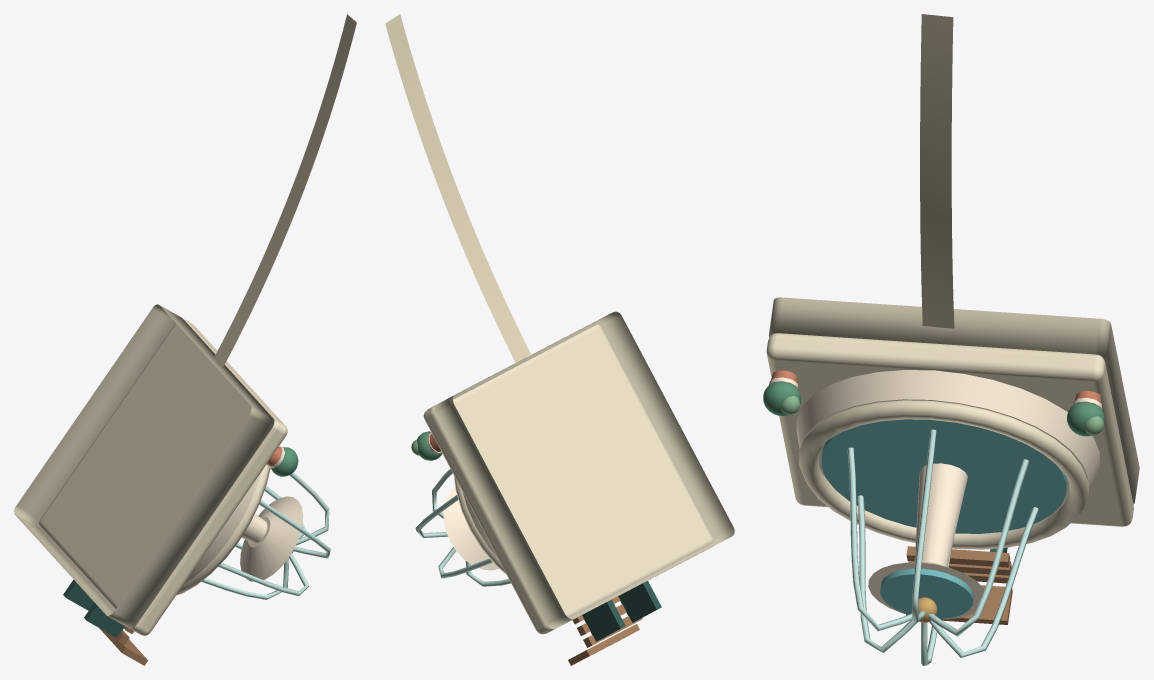
Rendered from fountain.glb.
The picture shows the model from 3 angles, left to right: view 1: azimuth 30°, elevation 25°; view 2: azimuth 150°, elevation 25°; view 3: azimuth 270°, elevation 25°; orthographic projection. The views are drawn at different scales.
Parts seen in each view (by area): view 1: fountain (×7); view 2: fountain (×7); view 3: fountain (×9).
Boxes of the visible parts, left/top/right/bottom form: fountain (×7): left=14, top=14, right=356, bottom=665; fountain (×7): left=385, top=14, right=734, bottom=665; fountain (×9): left=763, top=14, right=1139, bottom=665.
Bounding box in the file's own units: 0.3539 × 0.6678 × 0.3085.
